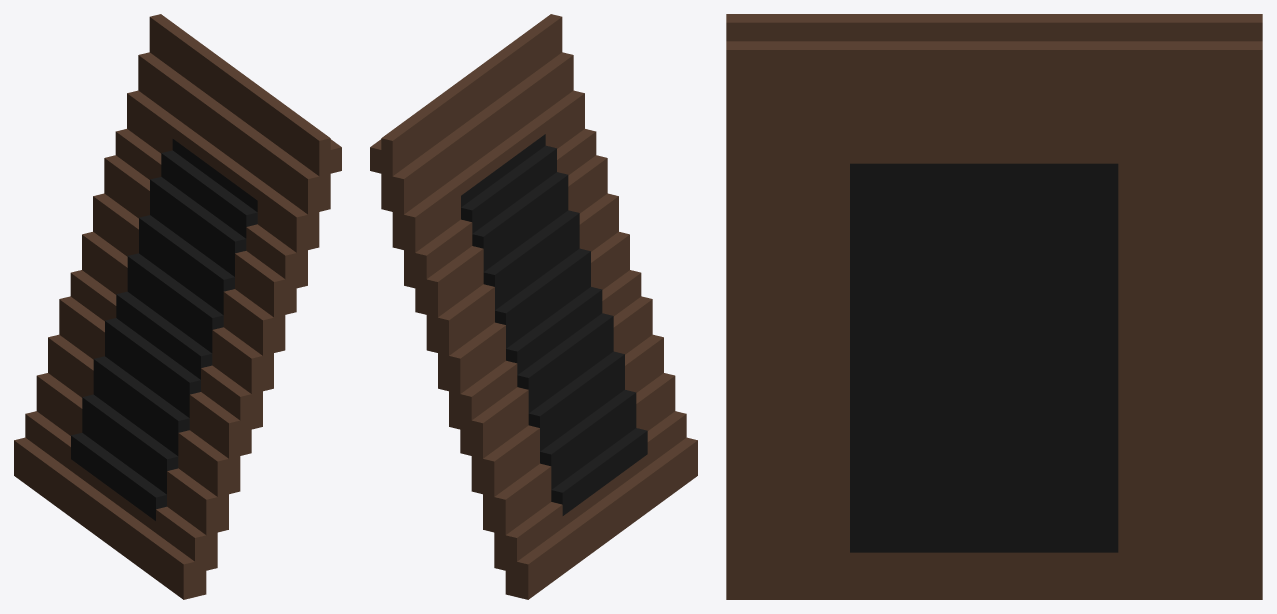
Rendered from burnt_out_bus_hatch.glb.
3 views of the same model, side by side, from view 1: azimuth 30°, elevation 25°; view 2: azimuth 150°, elevation 25°; view 3: azimuth 270°, elevation 25° (orthographic). The views are drawn at different scales.
Visible parts, largest first — view 1: body:compound; view 2: body:compound; view 3: body:compound.
Boxes of the visible parts, box(x1,y1,x2,y2) form: body:compound: box(14, 14, 341, 599); body:compound: box(370, 14, 697, 599); body:compound: box(726, 14, 1262, 599).
Size of the model in its own units: 0.4375 by 1.12 by 0.8125.
